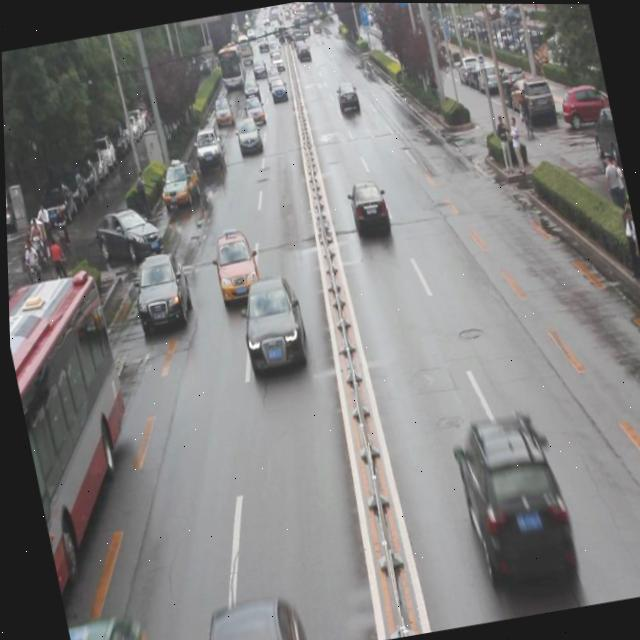car: (443, 406, 578, 595), (233, 271, 309, 376), (124, 248, 195, 338), (89, 203, 164, 266), (206, 227, 263, 309), (344, 176, 390, 238), (154, 152, 202, 211), (189, 122, 224, 172), (233, 115, 262, 156), (242, 95, 266, 126)
van: (6, 264, 160, 618)
